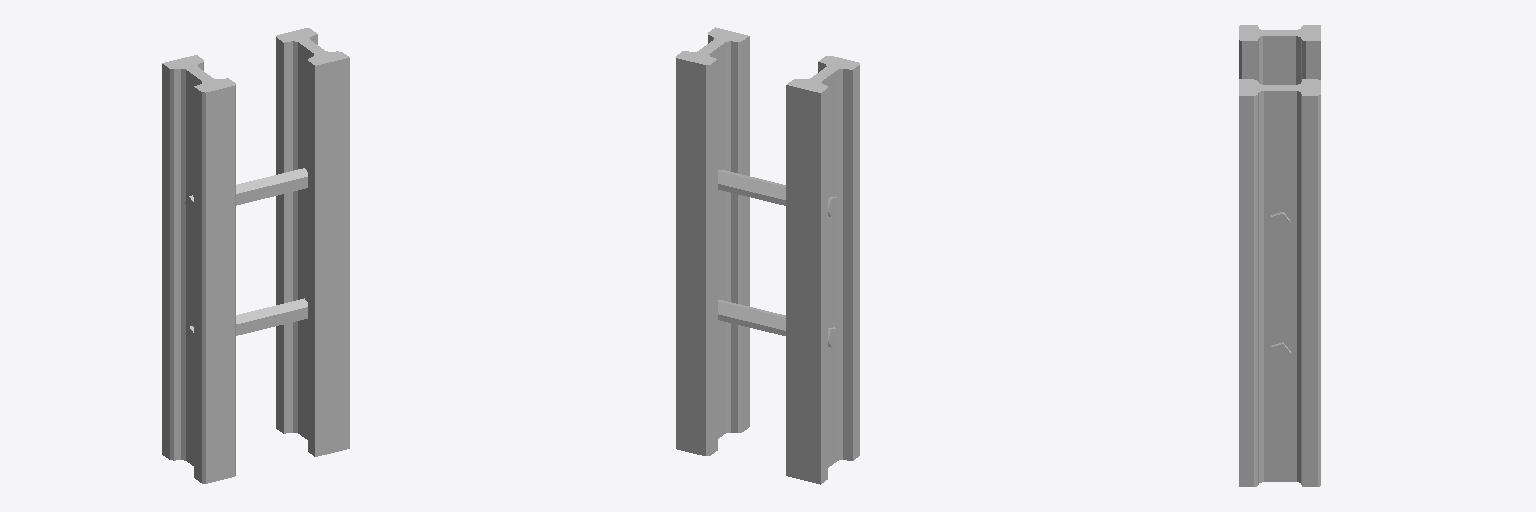
The model's file is lms_post_rail_mid.obj.
3 views of the same model, side by side, from view 1: azimuth 30°, elevation 25°; view 2: azimuth 150°, elevation 25°; view 3: azimuth 270°, elevation 25° (orthographic).
Parts seen in each view (by area): view 1: Railpost_Cube.025; view 2: Railpost_Cube.025; view 3: Railpost_Cube.025.
Part boxes in pixels (bbox=[...]): Railpost_Cube.025: bbox=[162, 28, 349, 483]; Railpost_Cube.025: bbox=[676, 27, 859, 484]; Railpost_Cube.025: bbox=[1239, 25, 1320, 486].
Bounding box in the file's own units: 0.3925 × 1 × 0.1905.